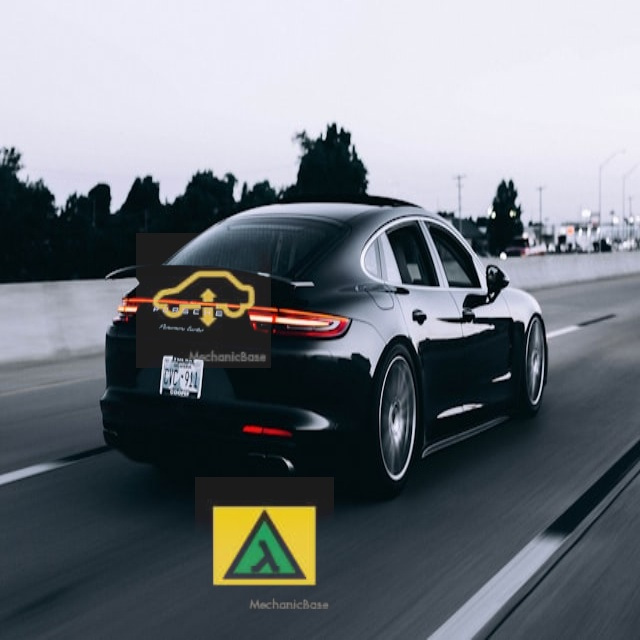symbol: (195, 477, 334, 616), (136, 233, 271, 368)
